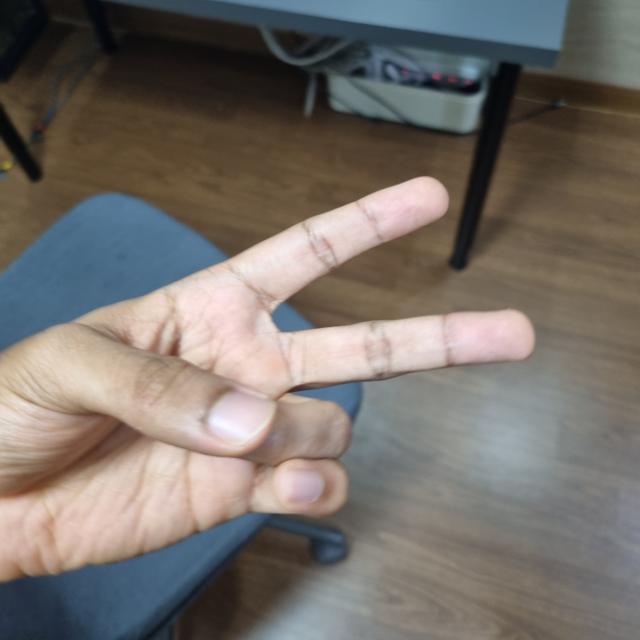Scissors: (1, 179, 530, 614)
